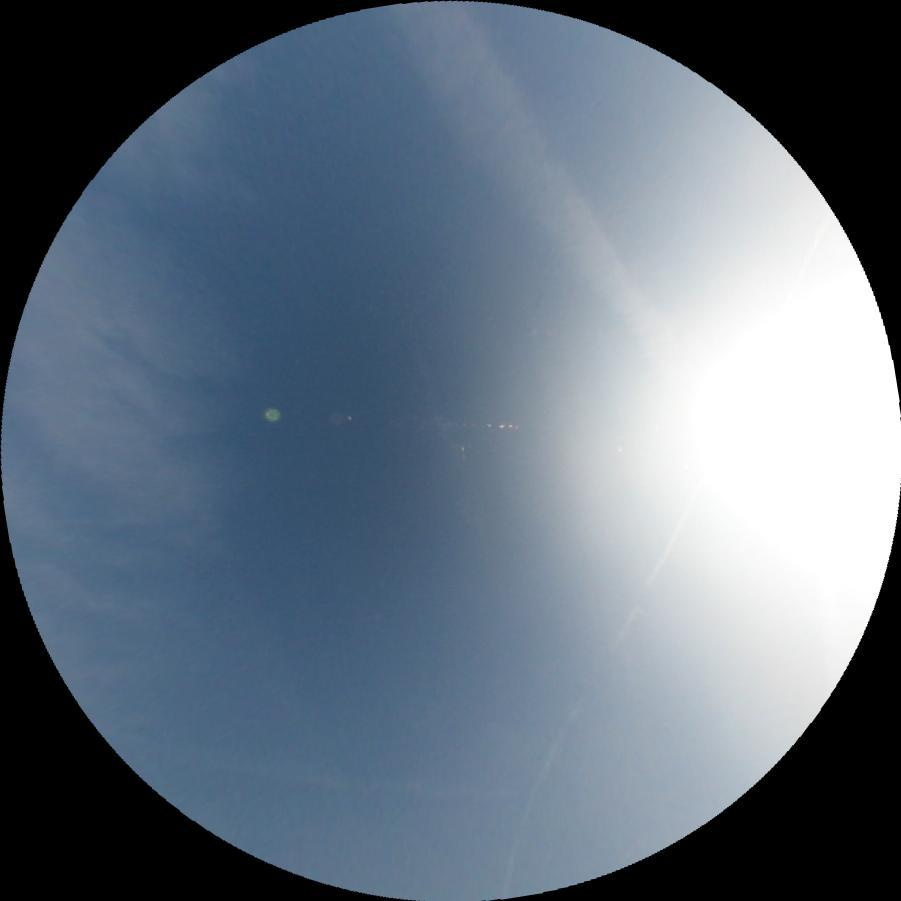contrail old: (482, 483, 697, 899)
contrail veryold: (378, 0, 698, 414)
